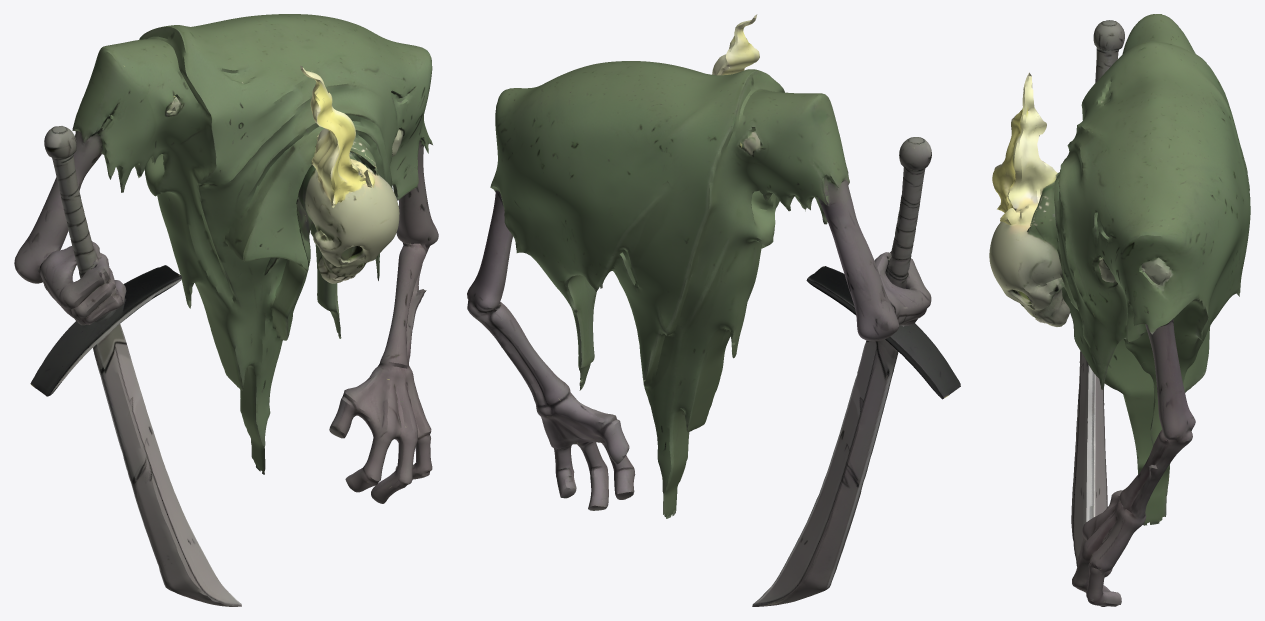
File: Meshy_AI_Blazing_Skull_Warrior_0428021449_texture.fbx
3 renders of one model, left to right at view 1: azimuth 30°, elevation 25°; view 2: azimuth 150°, elevation 25°; view 3: azimuth 270°, elevation 25°, orthographic. The views are drawn at different scales.
Parts seen in each view (by area): view 1: output; view 2: output; view 3: output.
Boxes of the visible parts, x1,y1,x2,y2 form: output: (14, 14, 438, 606); output: (467, 14, 960, 606); output: (989, 14, 1250, 606).
Size of the model in its own units: 821 by 1000 by 438.
1 material, 1 textured.
